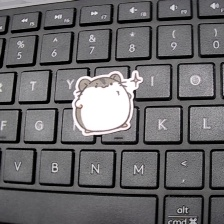mouse: (70, 69, 147, 138)
